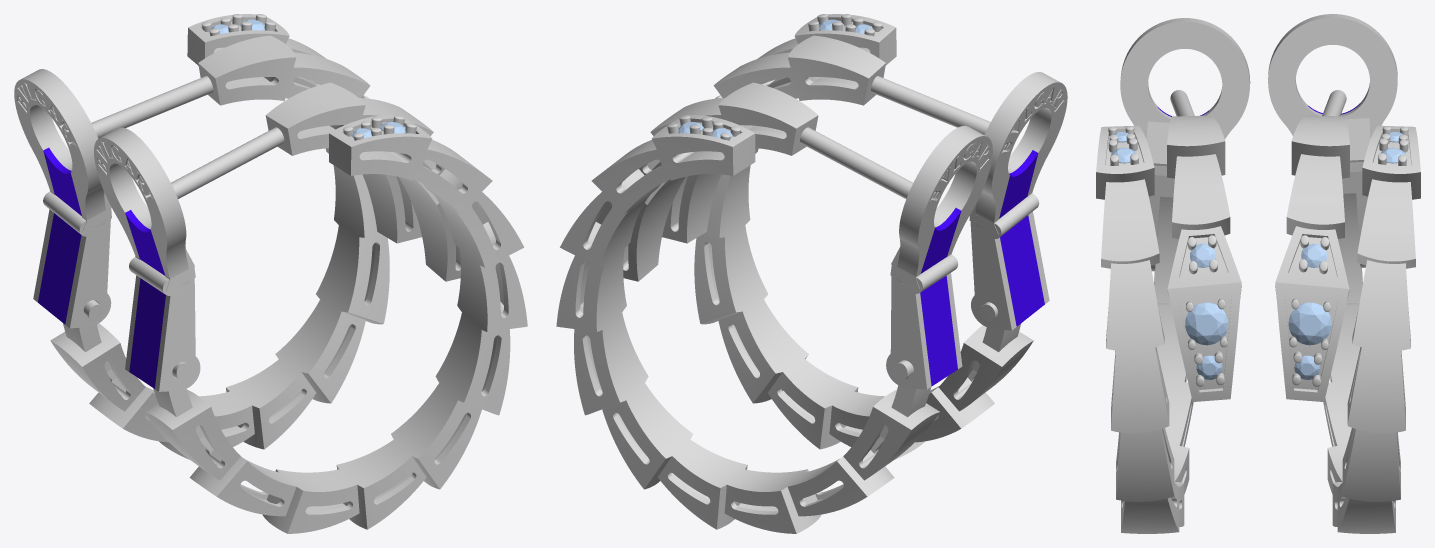
The picture shows the model from 3 angles, left to right: view 1: azimuth 30°, elevation 25°; view 2: azimuth 150°, elevation 25°; view 3: azimuth 270°, elevation 25°; orthographic projection. The views are drawn at different scales.
Parts seen in each view (by area): view 1: Candonagas final.3dm; view 2: Candonagas final.3dm; view 3: Candonagas final.3dm, GG_Round (×6).
Part boxes in pixels (x1,y1,x2,y2): Candonagas final.3dm: (14,14,527,533); Candonagas final.3dm: (556,14,1067,533); Candonagas final.3dm: (1096,14,1420,533); GG_Round (×6): (1185,243,1331,379).
Bounding box in the file's own units: 2.4 × 2.6 × 1.86.
